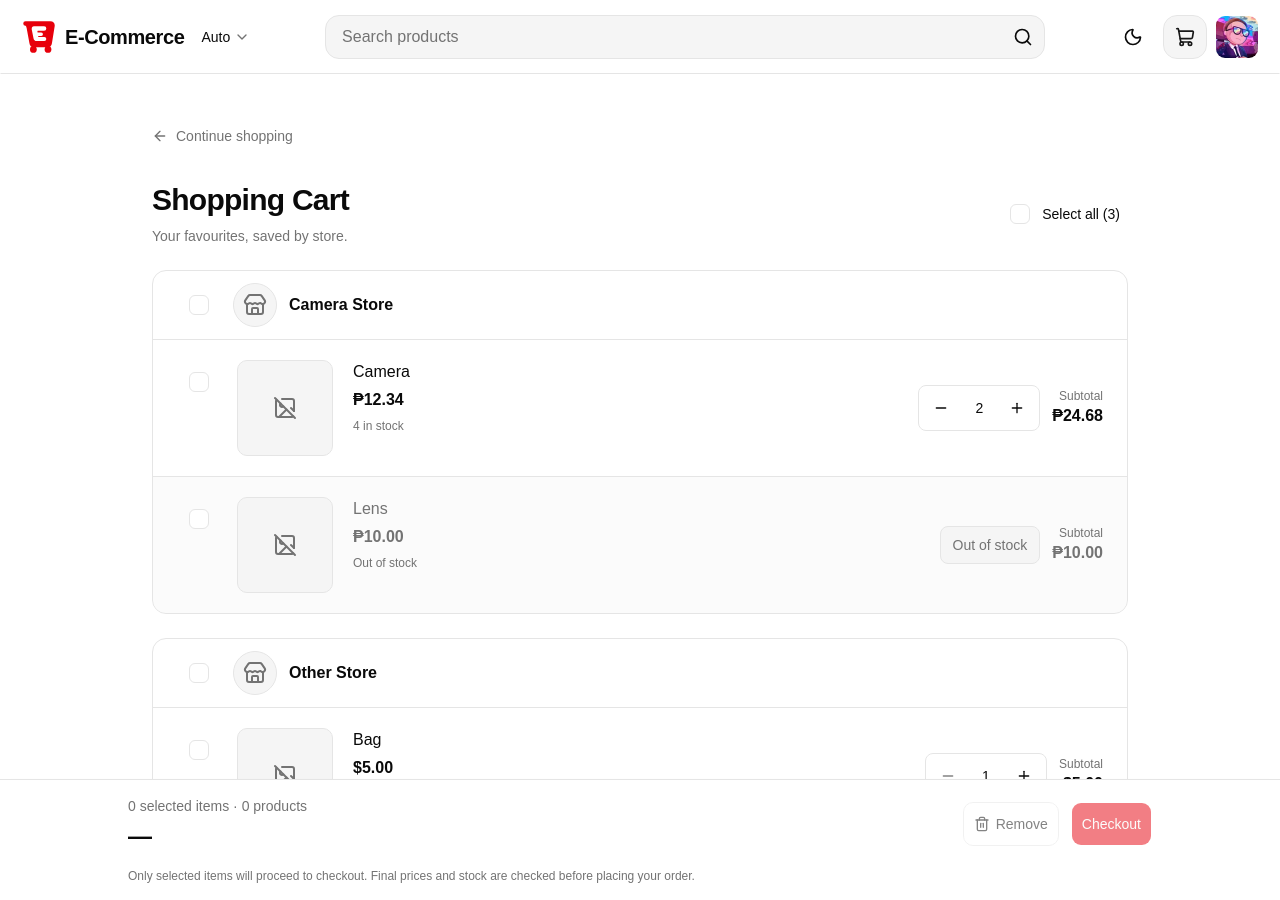
Test: Shopping cart › selects products, store carts, and all carts with mixed states and separate currency totals
Click the checkbox named "Select Camera" at point(199, 382), box [189,372,209,392]
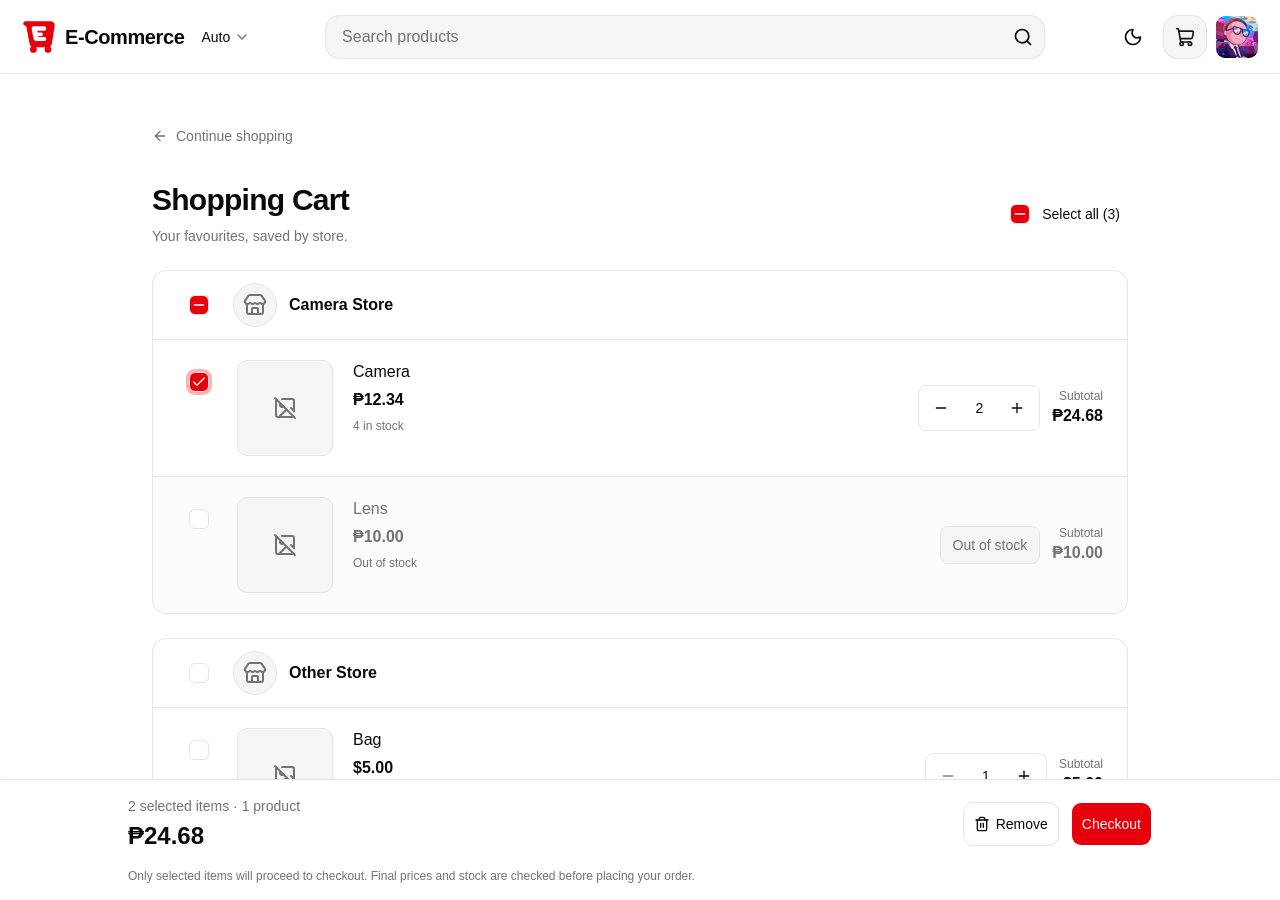
Check: the text "2 selected items · 1 product" is shown, box [128,796,300,816]
Click the checkbox named "Select all (3)" at point(1020, 214), box [1010,204,1030,224]
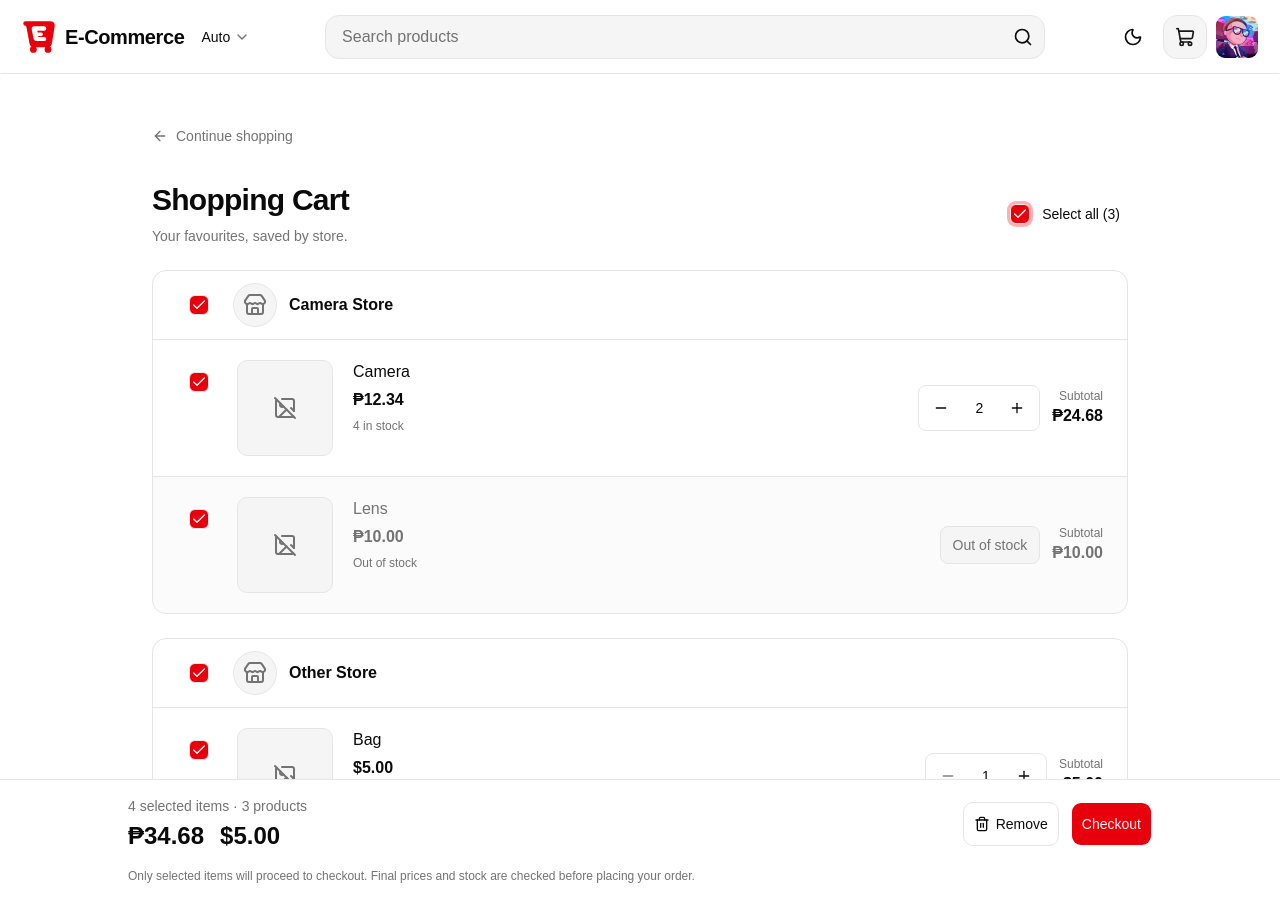
Check: the text "4 selected items · 3 products" is shown, box [128,796,307,816]
Check: the text "₱34.68" is shown, box [128,820,204,852]
Check: the text "$5.00" next to "₱34.68" is shown, box [220,822,280,849]
Click the checkbox named "Select all from Camera Store" at point(199, 305), box [189,295,209,315]
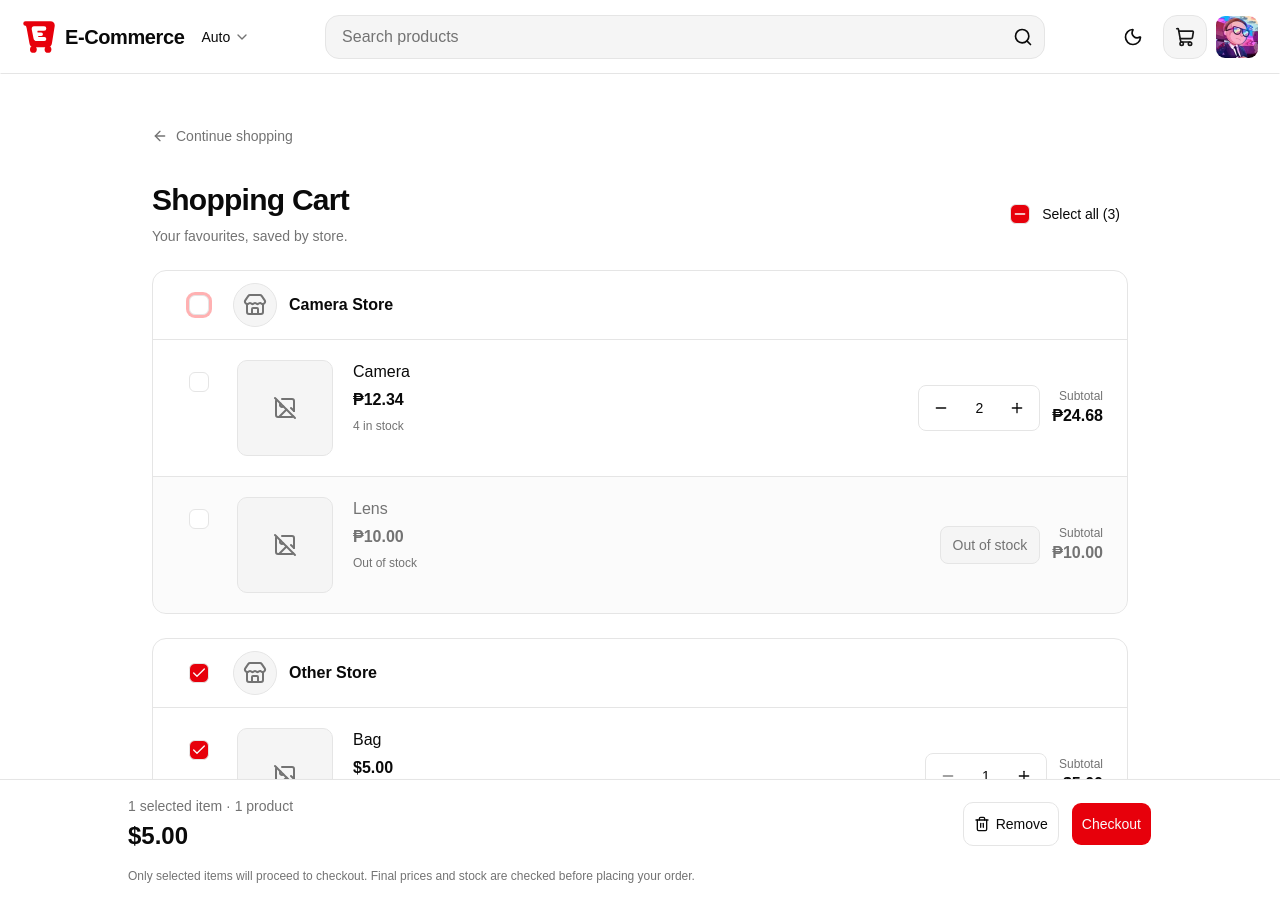
Check: the text "1 selected item · 1 product" is shown, box [128,796,293,816]
